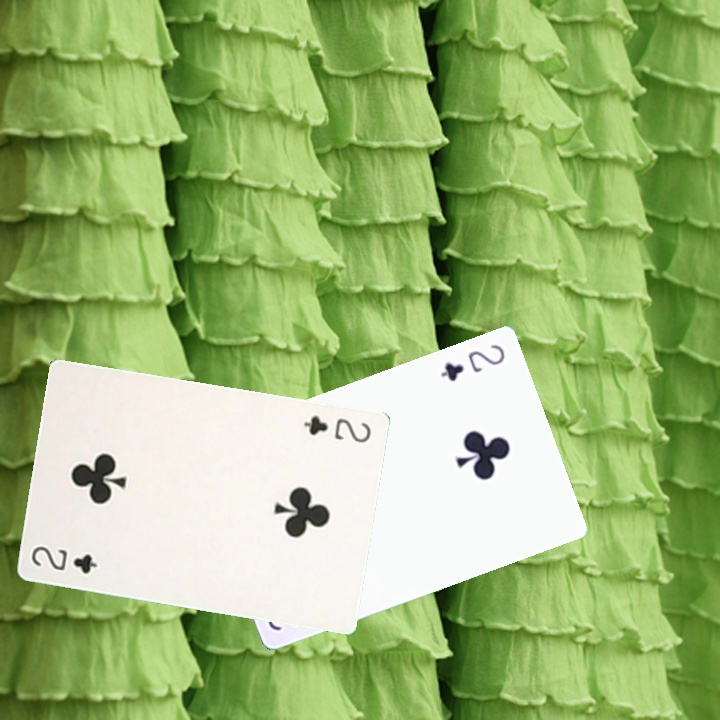2c: (436, 340, 508, 384), (299, 410, 374, 446), (27, 542, 99, 577)
